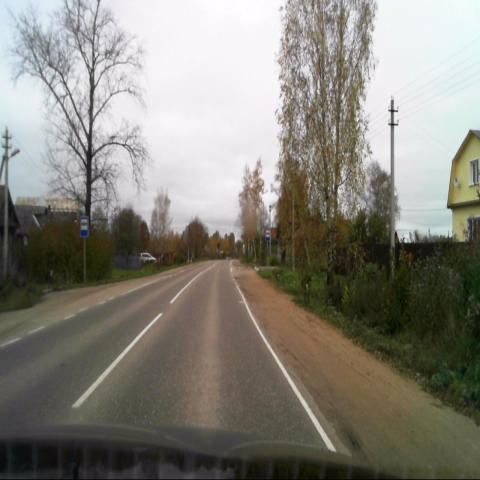5_16: (80, 215, 90, 238)
